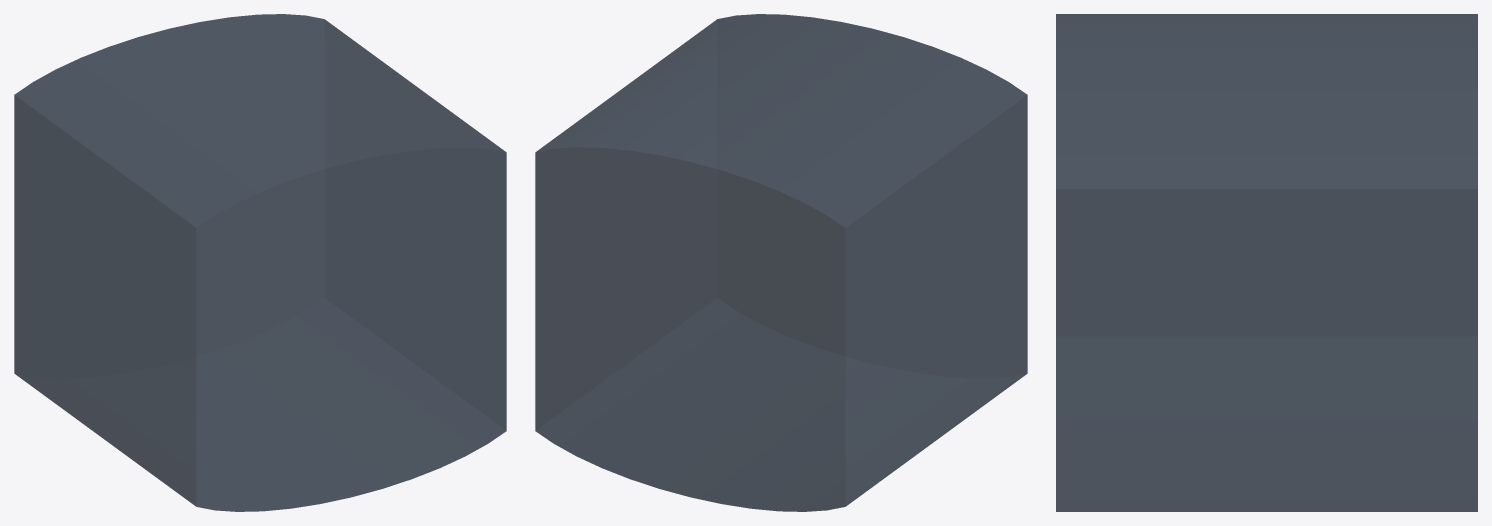
File: original-21.obj
3 renders of one model, left to right at view 1: azimuth 30°, elevation 25°; view 2: azimuth 150°, elevation 25°; view 3: azimuth 270°, elevation 25°, orthographic. The views are drawn at different scales.
Parts seen in each view (by area): view 1: mesh30/mesh30-geometry#mesh30-geometry; view 2: mesh30/mesh30-geometry#mesh30-geometry; view 3: mesh30/mesh30-geometry#mesh30-geometry.
Part boxes in pixels (box(x1,y1,x2,y2)): mesh30/mesh30-geometry#mesh30-geometry: box(14, 14, 506, 511); mesh30/mesh30-geometry#mesh30-geometry: box(535, 14, 1027, 511); mesh30/mesh30-geometry#mesh30-geometry: box(1056, 14, 1477, 511).
Size of the model in its own units: 0.0467 by 0.0483 by 0.0475.
